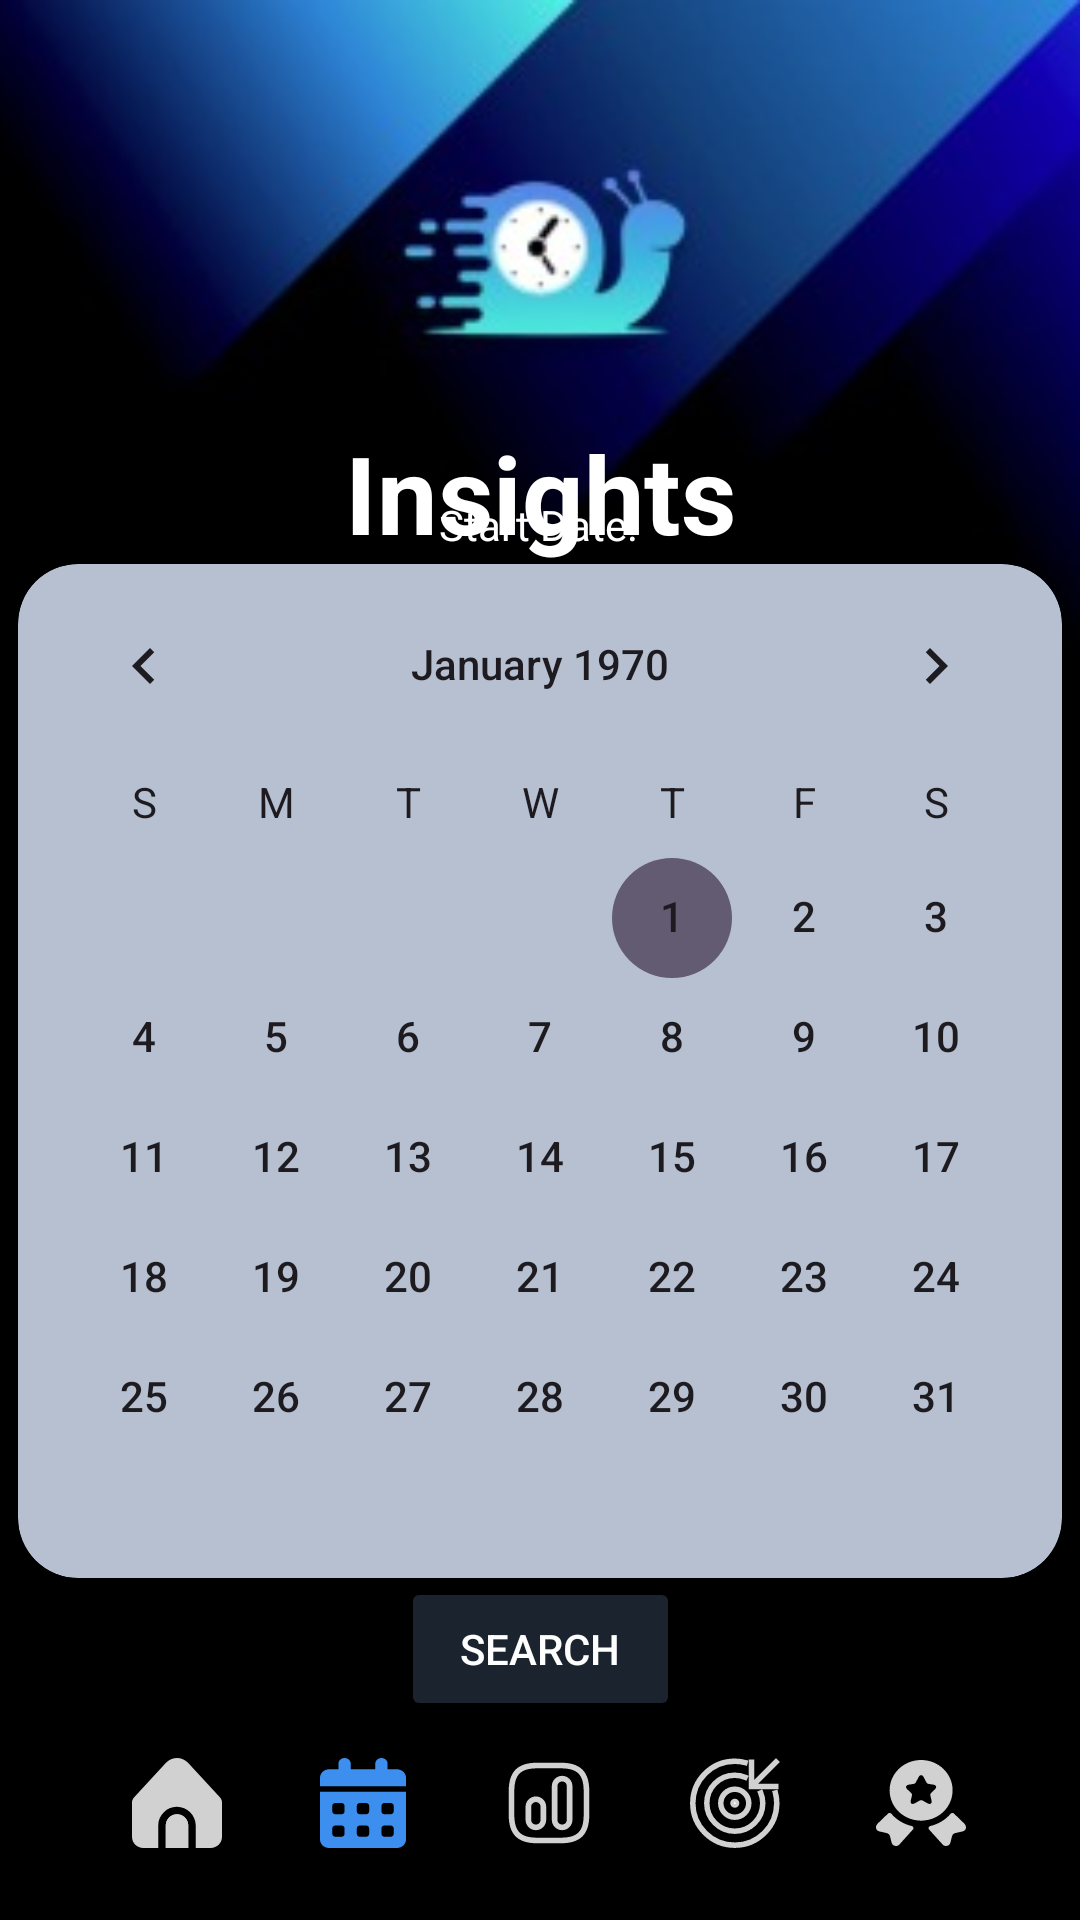

Locate icon controls on the screen. Image size 1080x1920, boxes as [x1, y1, x2, y2].
calendar: [320, 1758, 406, 1848]
goals: [690, 1758, 780, 1848]
home: [132, 1758, 222, 1848]
stats: [508, 1762, 590, 1844]
